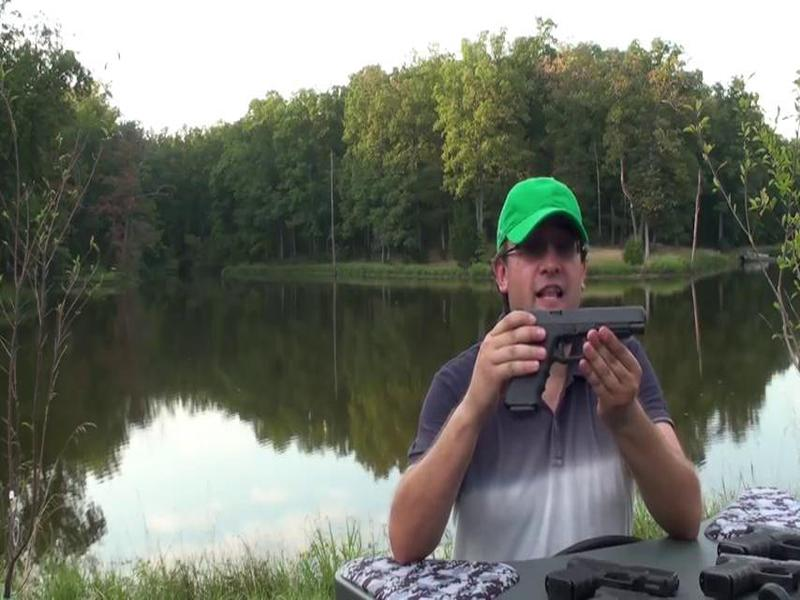Pistola: (487, 291, 665, 428)
